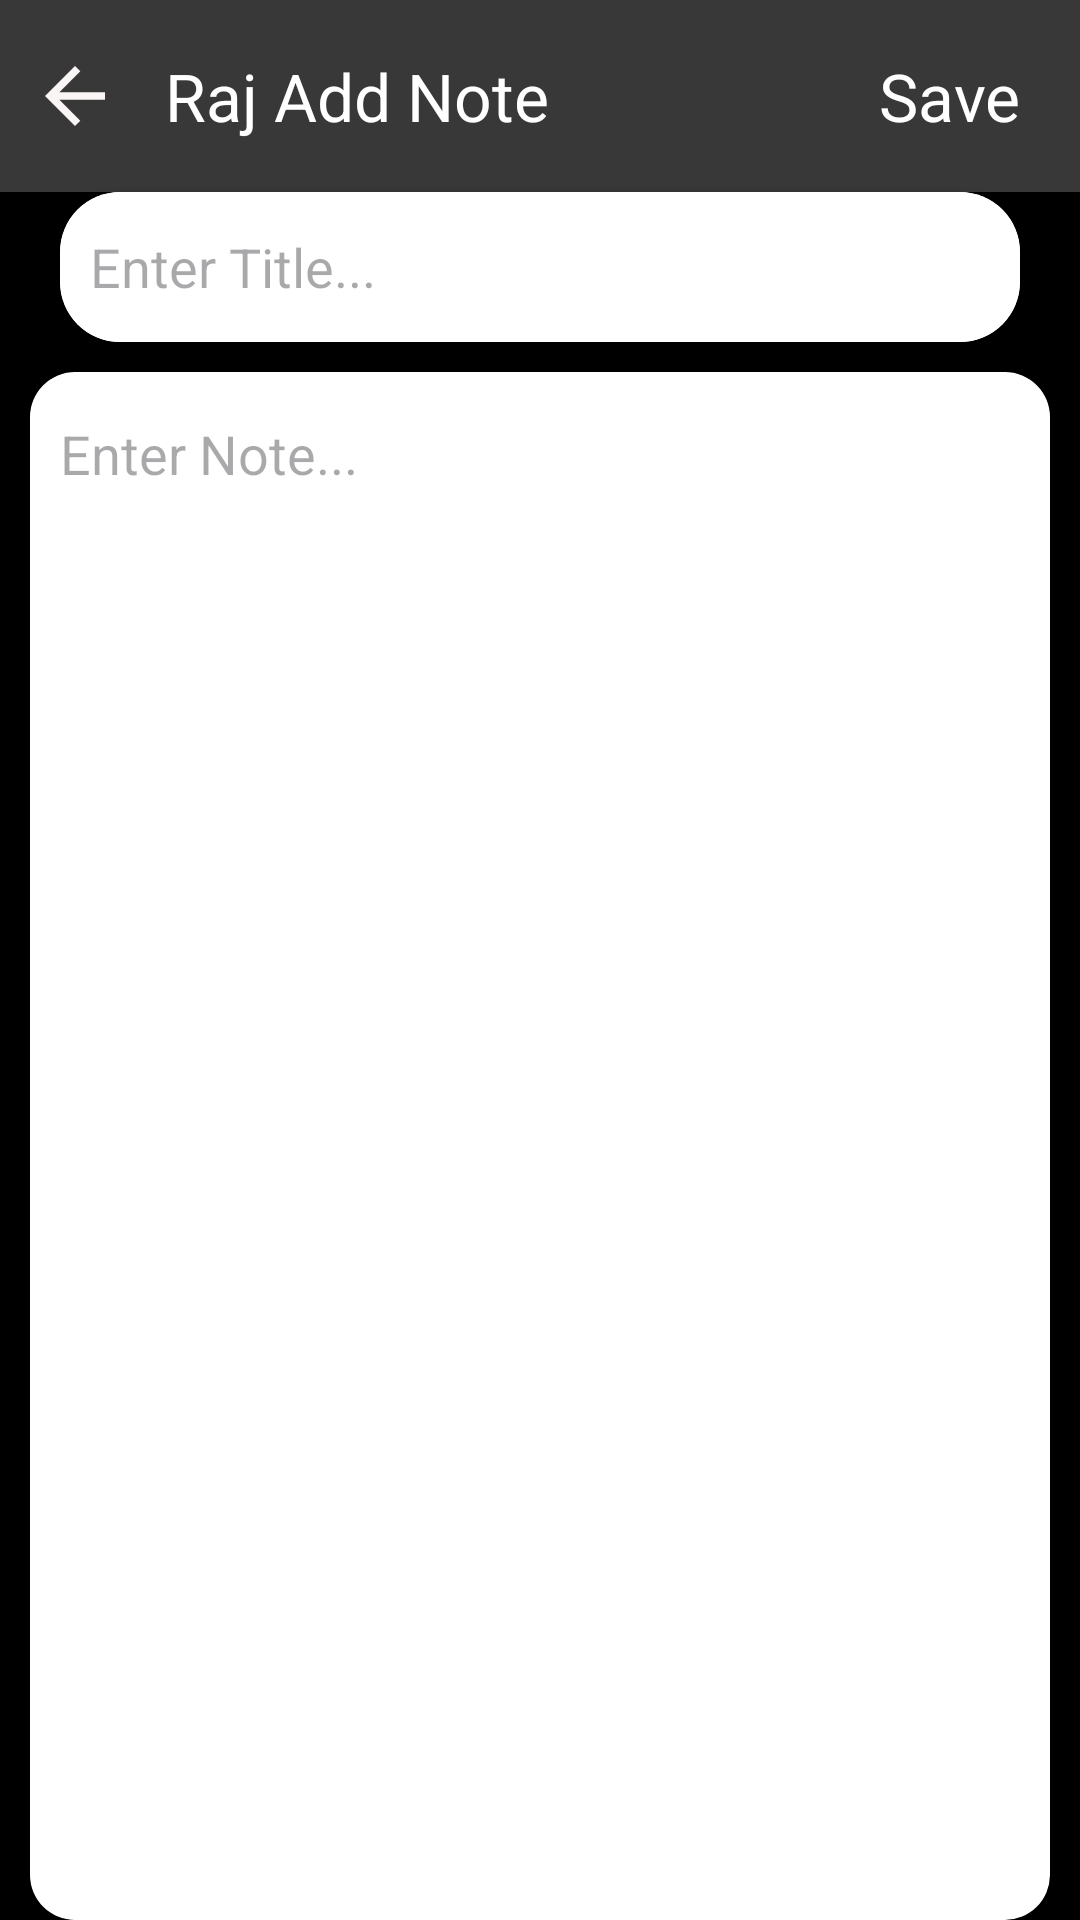

Screen size 1080px x 1920px. Icon name, then its center in pixels as (x,y):
arrow back: (75,96)
